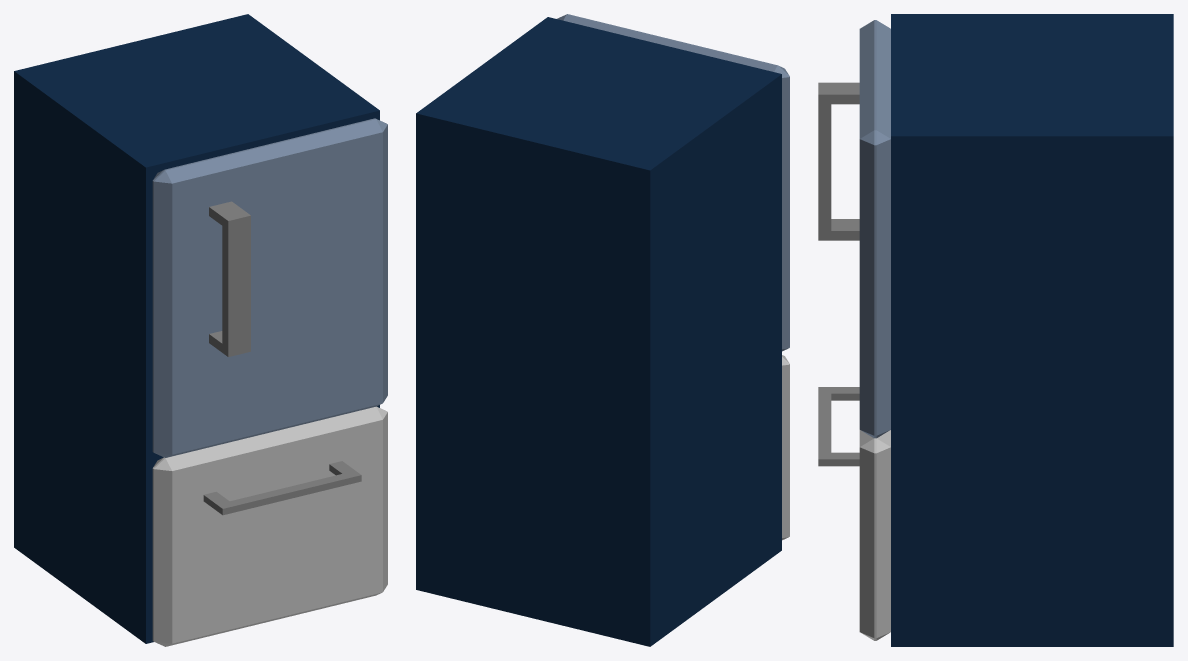
File: LD46_Fridge.fbx
3 views of the same model, side by side, from view 1: azimuth 30°, elevation 25°; view 2: azimuth 150°, elevation 25°; view 3: azimuth 270°, elevation 25° (orthographic). The views are drawn at different scales.
Visible parts, largest first — view 1: Body, Door_Higher, Door_lower, Handle_Higher, Handle_Lower; view 2: Body, Door_Higher, Door_lower; view 3: Body, Door_Higher, Door_lower, Handle_Higher, Handle_Lower.
Boxes of the visible parts, x1,y1,x2,y2 form: Body: [14, 14, 379, 643]; Door_Higher: [152, 118, 387, 457]; Door_lower: [152, 406, 387, 646]; Handle_Higher: [209, 201, 250, 356]; Handle_Lower: [203, 461, 361, 515]; Body: [416, 17, 781, 646]; Door_Higher: [557, 14, 789, 351]; Door_lower: [782, 355, 789, 540]; Body: [891, 14, 1173, 646]; Door_Higher: [859, 20, 890, 438]; Door_lower: [859, 430, 890, 640]; Handle_Higher: [818, 82, 859, 240]; Handle_Lower: [818, 387, 859, 466].
Size of the model in its own units: 0.9 by 1.75 by 1.1.
